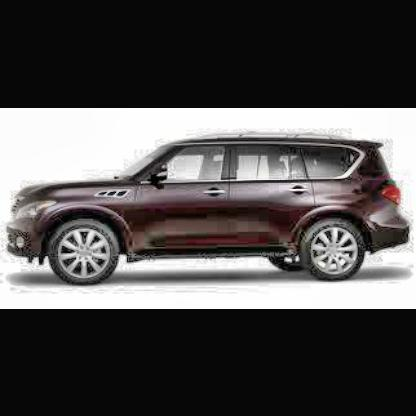Infiniti QX56 SUV 2011: (9, 136, 412, 289)
